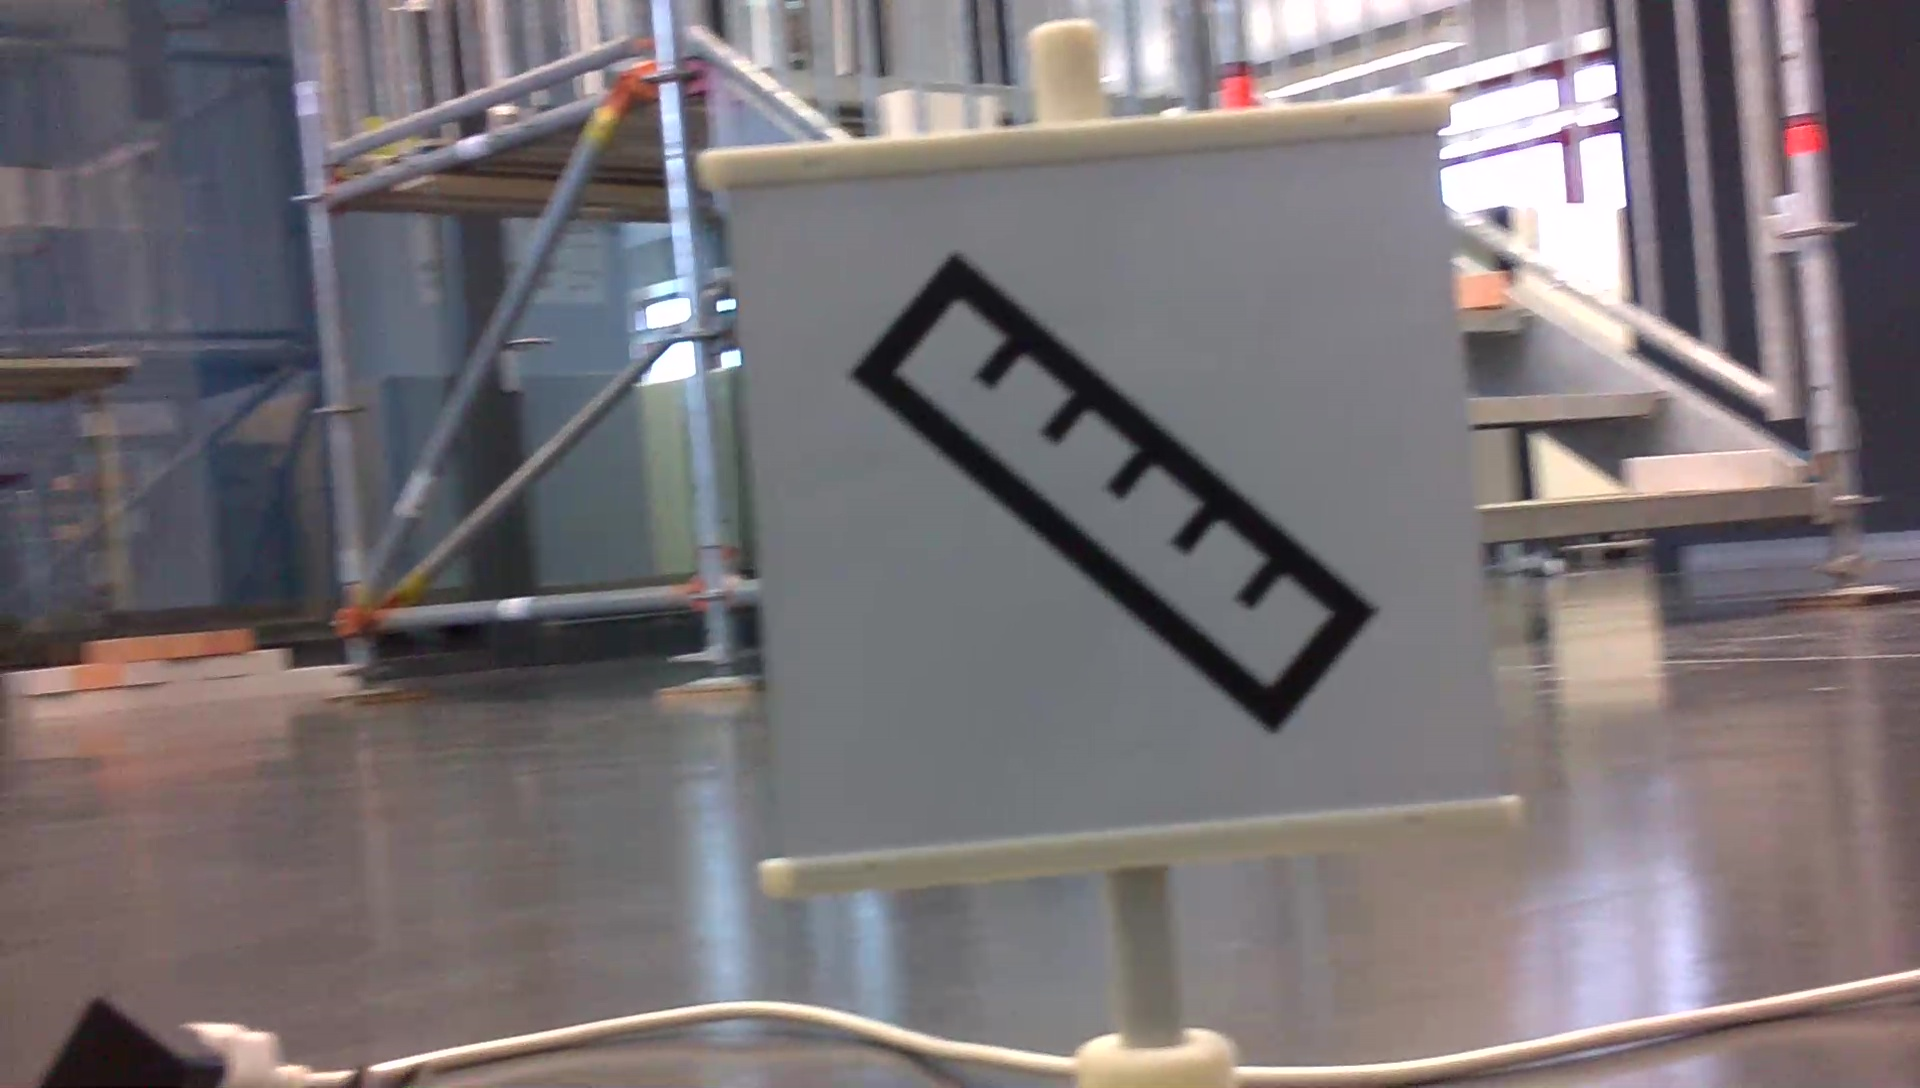brick: (1622, 440, 1782, 497)
ruler: (855, 237, 1385, 732)
